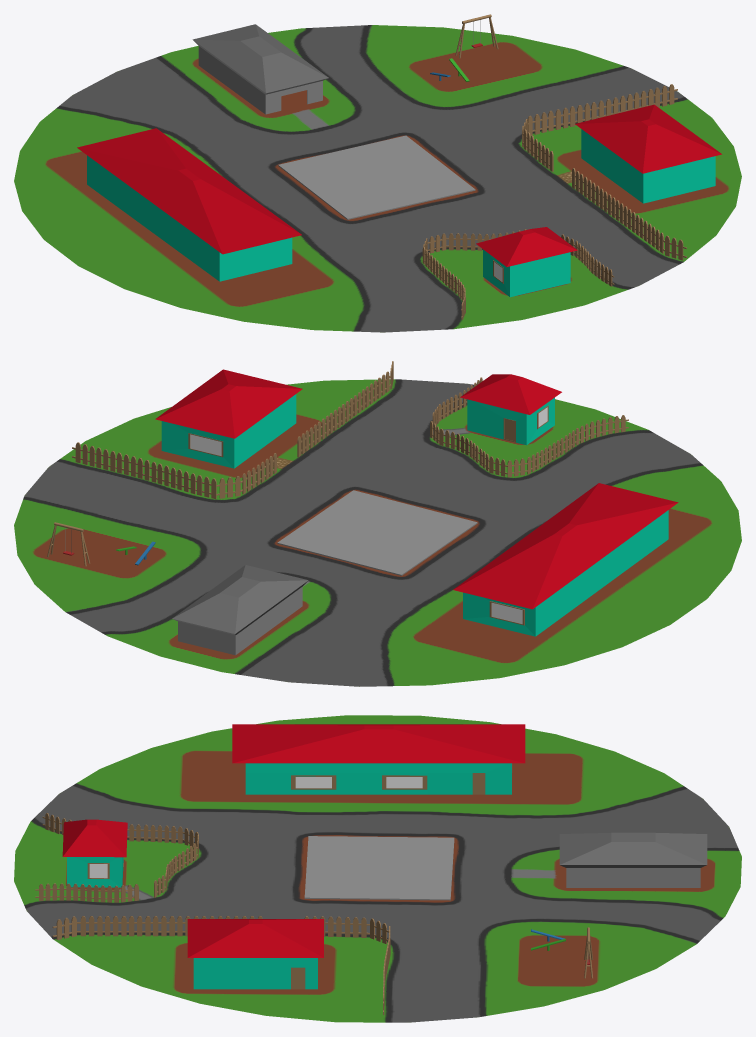
The model's file is PlanetaTierra.fbx.
3 renders of one model, top to bottom at view 1: azimuth 30°, elevation 25°; view 2: azimuth 150°, elevation 25°; view 3: azimuth 270°, elevation 25°, orthographic.
Visible parts, largest first — view 1: BasePlaneta8, CasaProtaExterior.001, CasaProtaExterior, Parque, Basurero, CercasCasaProta, CasaAmigoExterior, CercasCasaAmigo; view 2: BasePlaneta8, CasaProtaExterior.001, CasaProtaExterior, Parque, Basurero, CercasCasaProta, CasaAmigoExterior, CercasCasaAmigo; view 3: BasePlaneta8, CasaProtaExterior.001, CasaProtaExterior, Parque, Basurero, CasaAmigoExterior, CercasCasaProta, CercasCasaAmigo.
Part boxes in pixels (x1,y1,x2,y2): BasePlaneta8: [14, 25, 741, 332]; CasaProtaExterior.001: [77, 128, 301, 281]; CasaProtaExterior: [575, 104, 721, 203]; Parque: [278, 135, 475, 219]; Basurero: [192, 24, 328, 114]; CercasCasaProta: [522, 84, 686, 260]; CasaAmigoExterior: [476, 227, 577, 297]; CercasCasaAmigo: [422, 229, 614, 319]; BasePlaneta8: [14, 379, 741, 686]; CasaProtaExterior.001: [453, 483, 678, 636]; CasaProtaExterior: [155, 369, 302, 468]; Parque: [277, 490, 477, 575]; Basurero: [172, 565, 308, 655]; CercasCasaProta: [72, 361, 393, 499]; CasaAmigoExterior: [460, 374, 561, 445]; CercasCasaAmigo: [430, 377, 628, 477]; BasePlaneta8: [14, 715, 741, 1022]; CasaProtaExterior.001: [232, 724, 525, 794]; CasaProtaExterior: [187, 919, 323, 989]; Parque: [304, 836, 454, 900]; Basurero: [559, 832, 707, 887]; CasaAmigoExterior: [62, 819, 127, 887]; CercasCasaProta: [52, 916, 390, 1014]; CercasCasaAmigo: [35, 813, 198, 902].
Bounding box in the file's own units: 3987 × 301 × 3987.
